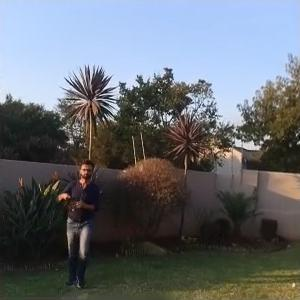follow: (49, 153, 107, 295)
